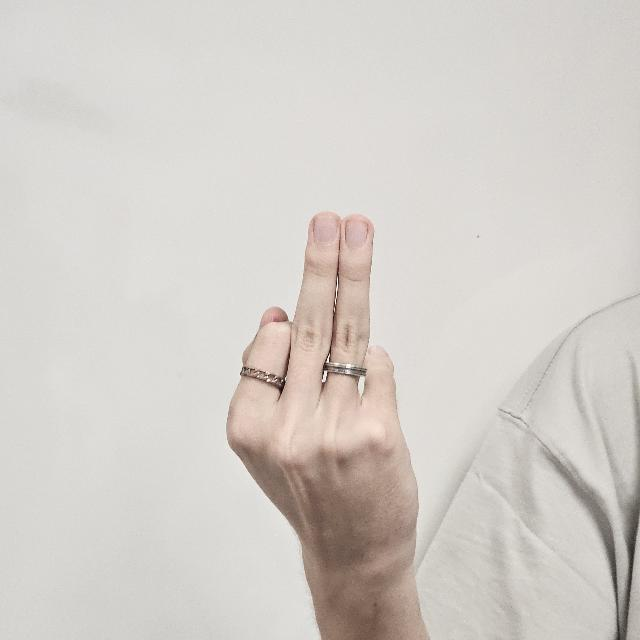R: (226, 206, 424, 602)
